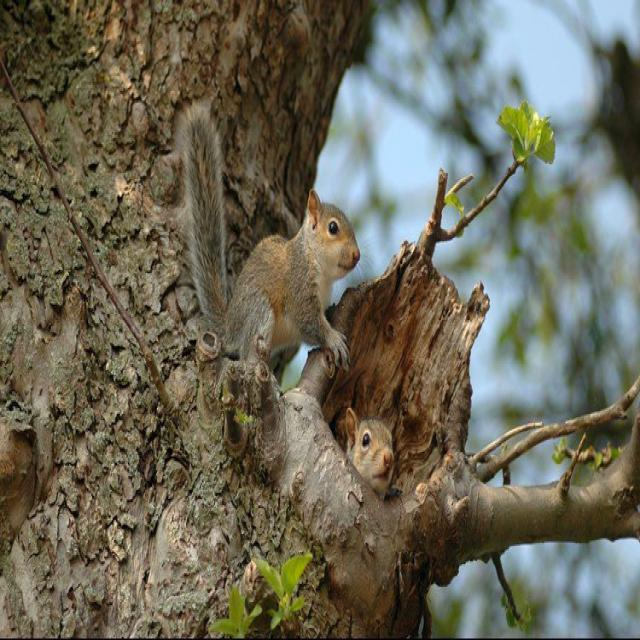squirrel: (179, 108, 359, 365), (340, 409, 393, 494)
